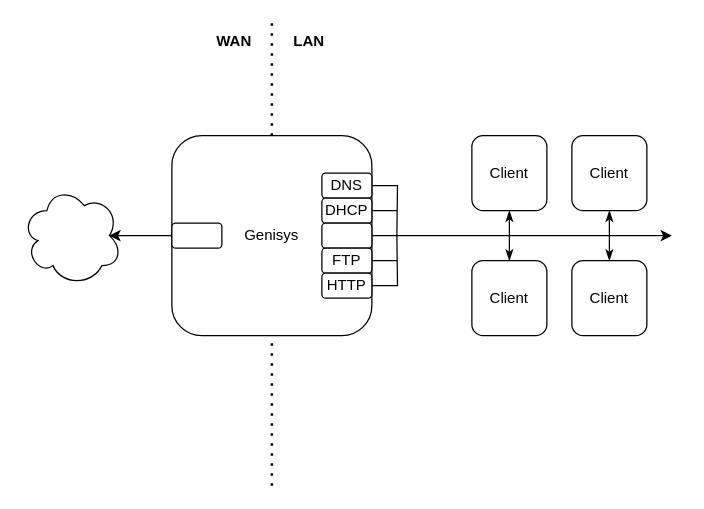
Some shapes in this 704 by 509 pixel diagram are drawn without their labels. Here are the shapes that lost their labels. From the top down, the box of each, then its label:
(21, 184, 122, 286): Internet
(171, 222, 222, 248): Node
(321, 222, 372, 248): TFTP
